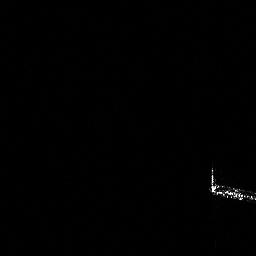ship: (210, 168, 256, 201)
